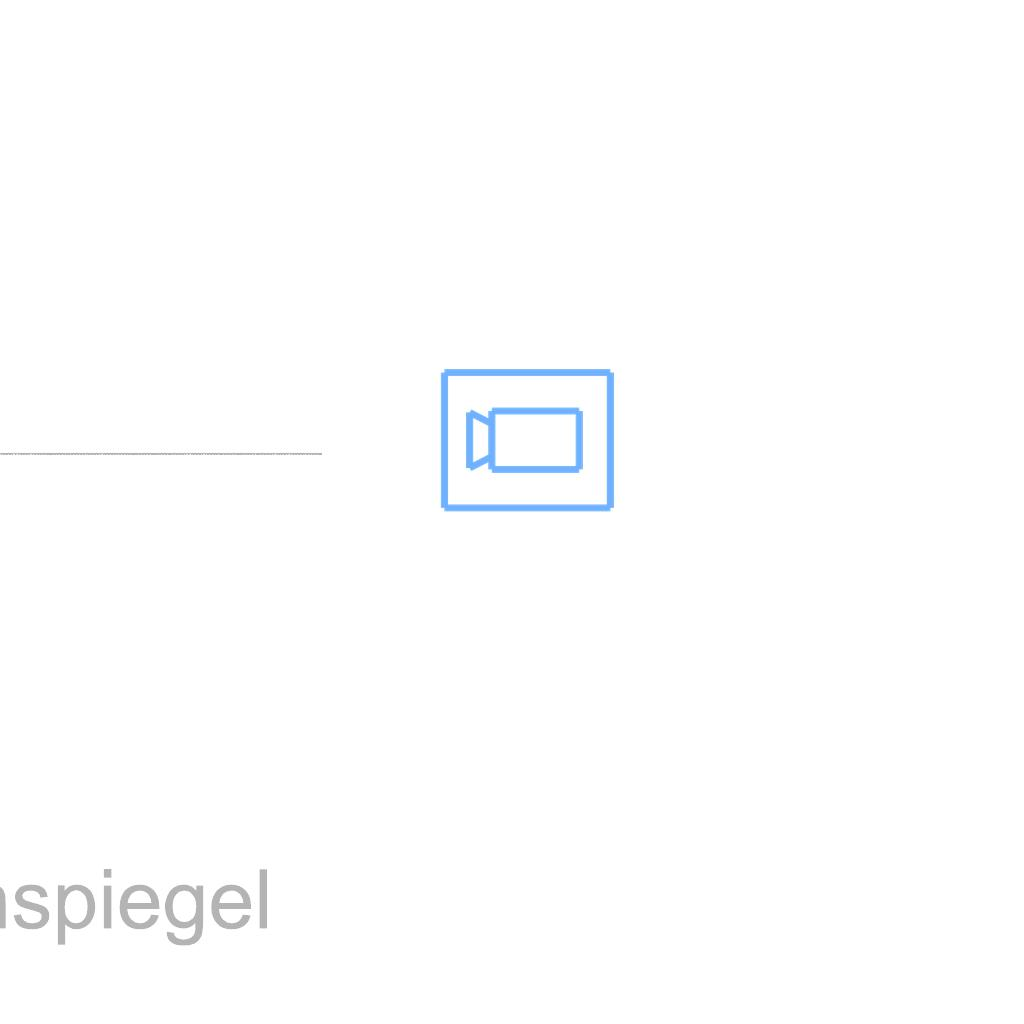KFO_Kamera_mit_Festobjektiv: (437, 362, 619, 516)
